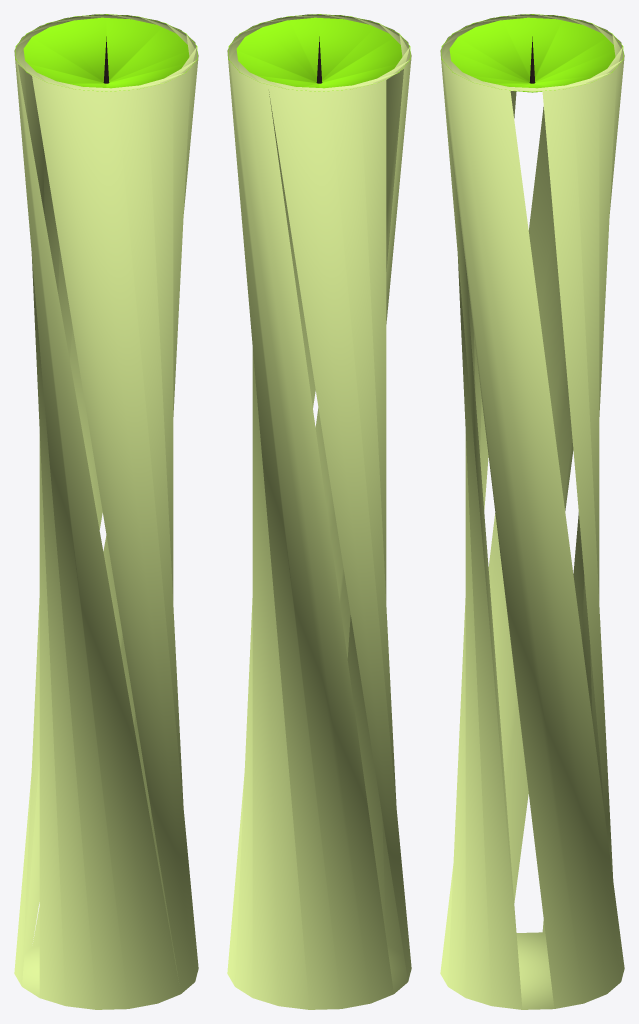
The model's file is swieczka07.FBX.
3 views of the same model, side by side, from view 1: azimuth 30°, elevation 25°; view 2: azimuth 150°, elevation 25°; view 3: azimuth 270°, elevation 25° (orthographic).
Parts seen in each view (by area): view 1: Cylinder002; view 2: Cylinder002; view 3: Cylinder002.
Boxes of the visible parts, x1,y1,x2,y2 form: Cylinder002: [14, 14, 198, 1009]; Cylinder002: [227, 14, 411, 1009]; Cylinder002: [440, 14, 624, 1009].
Bounding box in the file's own units: 3.99 × 22.34 × 3.99.
